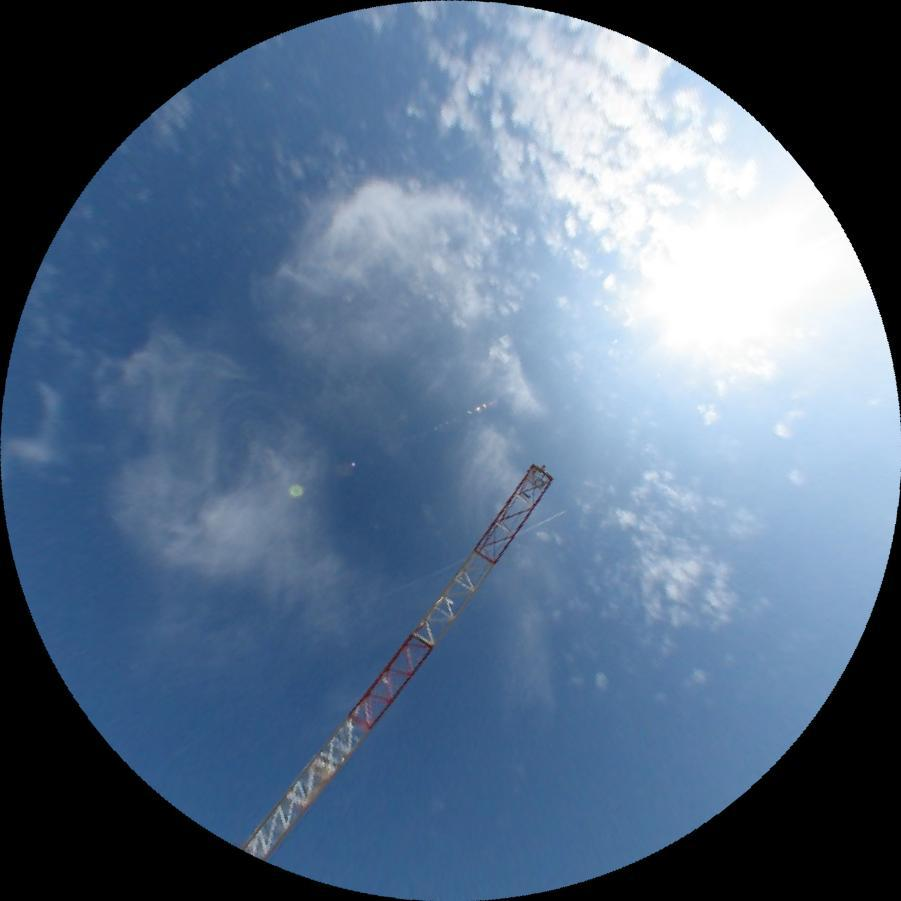contrail young: (311, 508, 567, 631)
sun: (643, 164, 886, 400)
